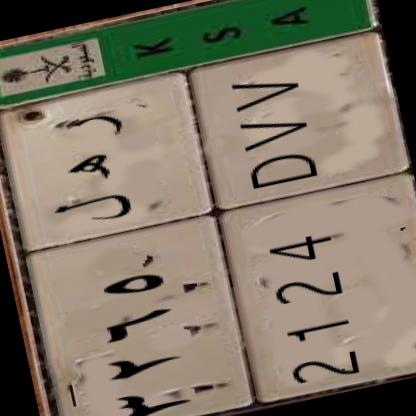english: (163, 22, 416, 411)
